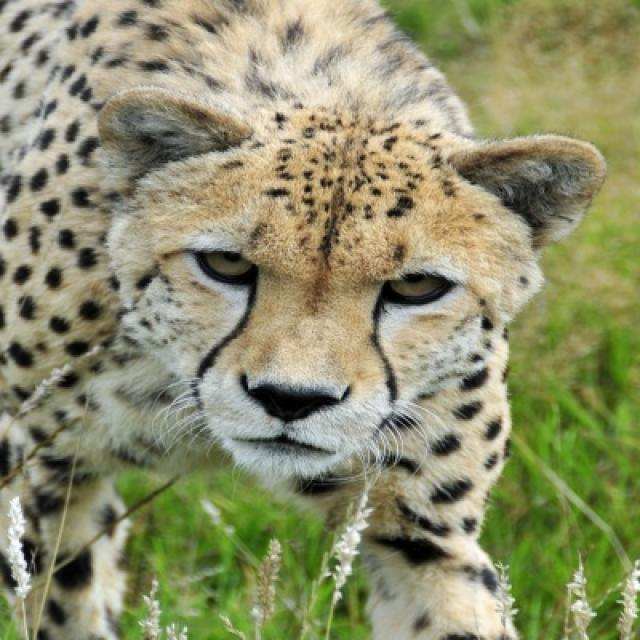Cheetah: (0, 1, 607, 638)
